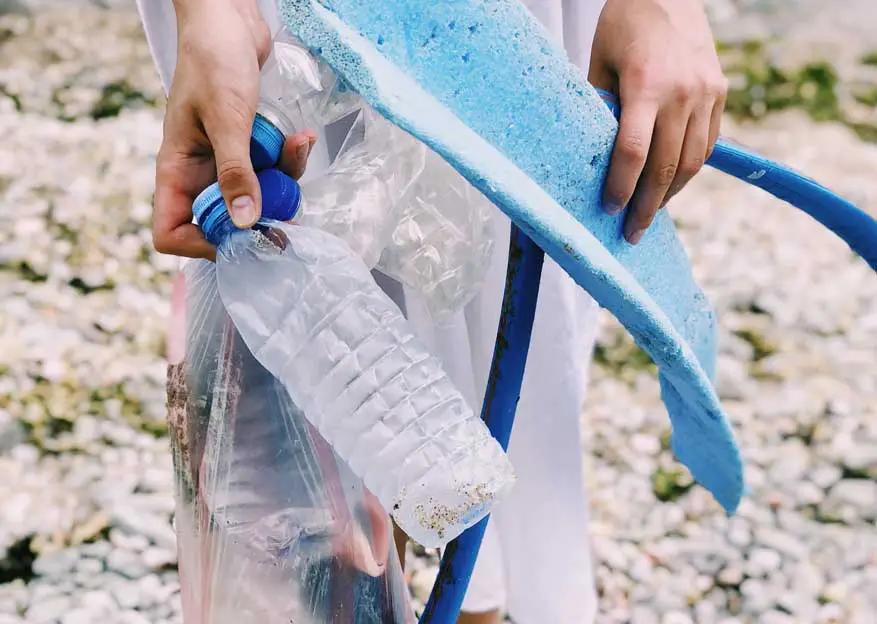paper: (154, 140, 533, 567), (202, 24, 357, 175)
